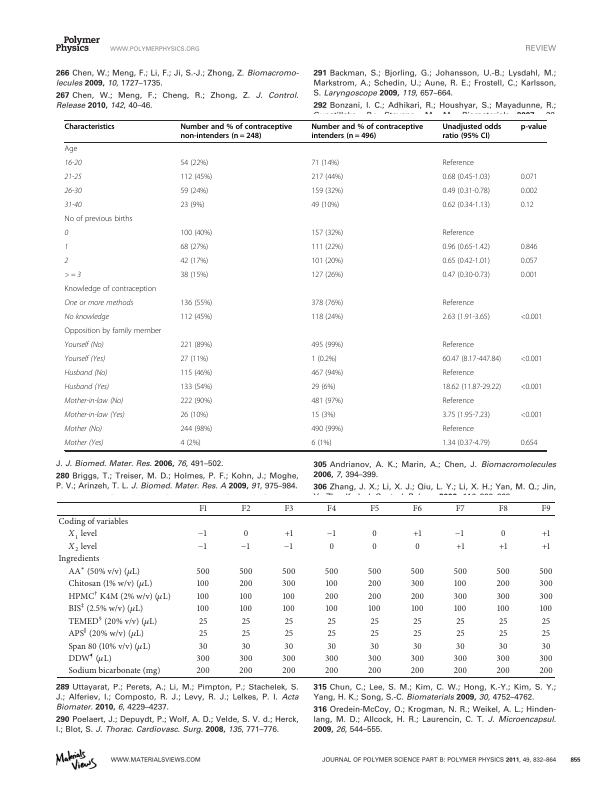borderless: (63, 119, 546, 450), (55, 500, 555, 677)
cell: (179, 123, 293, 141), (310, 123, 424, 141), (67, 587, 172, 604), (67, 613, 158, 629), (67, 576, 153, 591), (67, 638, 152, 653), (67, 625, 145, 641), (67, 600, 144, 616), (67, 563, 141, 579), (441, 123, 502, 141), (67, 666, 161, 677), (64, 327, 162, 337), (64, 285, 157, 295), (67, 650, 113, 666), (57, 517, 129, 527), (64, 215, 133, 225), (64, 299, 134, 308), (441, 355, 502, 365), (441, 383, 502, 393), (64, 411, 126, 420), (64, 397, 124, 406), (67, 538, 98, 555), (441, 173, 491, 183), (441, 187, 491, 197), (441, 201, 491, 211), (441, 243, 491, 253), (441, 257, 491, 267), (441, 271, 491, 281), (441, 313, 491, 323), (441, 411, 491, 421), (441, 439, 491, 449), (67, 526, 98, 542), (57, 554, 100, 565), (64, 123, 116, 132), (64, 313, 110, 323), (64, 383, 110, 392), (64, 369, 108, 378), (64, 355, 106, 364), (64, 341, 105, 350), (64, 439, 104, 448), (64, 425, 103, 434), (441, 159, 475, 169), (179, 173, 213, 183), (310, 173, 344, 183), (310, 187, 344, 197), (179, 229, 213, 239), (310, 229, 344, 239), (441, 229, 475, 239), (310, 243, 344, 253), (310, 257, 344, 267), (310, 271, 344, 281), (179, 299, 213, 309), (310, 299, 344, 309), (441, 299, 475, 309), (179, 313, 213, 323), (310, 313, 344, 323), (179, 341, 213, 351), (310, 341, 344, 351), (441, 341, 475, 351), (179, 369, 213, 379), (310, 369, 344, 379), (441, 369, 475, 379), (179, 383, 213, 393), (179, 397, 213, 407), (310, 397, 344, 407), (441, 397, 475, 407), (179, 425, 213, 435), (310, 425, 344, 435), (441, 425, 475, 435), (179, 159, 209, 169), (310, 159, 340, 169), (179, 187, 209, 197), (310, 201, 340, 211), (179, 243, 209, 253), (179, 257, 209, 267), (179, 271, 209, 281), (179, 355, 209, 365), (179, 411, 209, 421), (310, 355, 338, 365), (179, 201, 205, 211), (310, 383, 336, 393), (310, 411, 336, 421), (520, 123, 547, 132), (520, 313, 543, 323), (520, 355, 543, 365), (520, 383, 543, 393), (520, 411, 543, 421), (179, 439, 201, 449), (310, 439, 332, 449), (197, 538, 209, 554), (240, 538, 252, 554), (283, 538, 295, 554), (197, 526, 209, 541), (326, 526, 338, 541), (520, 173, 538, 183), (520, 187, 538, 197), (520, 243, 538, 253), (520, 257, 538, 267), (520, 271, 538, 281), (520, 439, 538, 449), (238, 579, 254, 590), (238, 666, 254, 677), (455, 526, 466, 541), (281, 579, 296, 590), (367, 579, 382, 590), (410, 579, 425, 590), (496, 579, 511, 590), (539, 579, 554, 590), (324, 591, 339, 602), (367, 591, 382, 602), (410, 591, 425, 602), (453, 591, 468, 602), (496, 591, 511, 602), (539, 591, 554, 602), (196, 666, 211, 677), (281, 666, 296, 677), (324, 666, 339, 677), (367, 666, 382, 677), (410, 666, 425, 677), (453, 666, 468, 677), (496, 666, 511, 677), (539, 666, 554, 677), (64, 159, 82, 168), (64, 173, 82, 182), (64, 187, 82, 196), (64, 201, 82, 210), (64, 271, 82, 280), (238, 567, 254, 577), (238, 654, 254, 664), (196, 579, 210, 590), (325, 579, 339, 590), (453, 579, 467, 590), (196, 591, 210, 602), (239, 591, 253, 602), (282, 591, 296, 602), (196, 604, 210, 615), (239, 604, 253, 615), (282, 604, 296, 615), (325, 604, 339, 615), (368, 604, 382, 615), (410, 604, 424, 615), (453, 604, 467, 615), (496, 604, 510, 615), (539, 604, 553, 615), (196, 567, 211, 577), (281, 567, 296, 577), (324, 567, 339, 577), (367, 567, 382, 577), (410, 567, 425, 577), (453, 567, 468, 577), (496, 567, 511, 577), (539, 567, 554, 577), (196, 654, 211, 664), (281, 654, 296, 664), (324, 654, 339, 664), (367, 654, 382, 664), (410, 654, 425, 664), (453, 654, 468, 664), (496, 654, 511, 664), (539, 654, 554, 664), (520, 201, 535, 211), (64, 145, 78, 155), (283, 504, 294, 515), (326, 504, 337, 515), (369, 504, 380, 515), (412, 504, 423, 515), (455, 504, 466, 515), (498, 504, 509, 515), (541, 504, 552, 515), (412, 529, 423, 540), (369, 616, 380, 627), (412, 616, 423, 627), (455, 616, 466, 627), (326, 641, 337, 652), (369, 641, 380, 652), (412, 641, 423, 652), (455, 641, 466, 652), (198, 504, 208, 515), (241, 504, 251, 515), (284, 529, 294, 540), (541, 529, 551, 540), (198, 616, 208, 627), (241, 616, 251, 627), (284, 616, 294, 627), (327, 616, 337, 627), (498, 616, 508, 627), (541, 616, 551, 627), (369, 629, 380, 639), (412, 629, 423, 639), (455, 629, 466, 639), (198, 641, 208, 652), (241, 641, 251, 652), (284, 641, 294, 652), (498, 641, 508, 652), (541, 641, 551, 652), (455, 542, 465, 552), (498, 542, 508, 552), (541, 542, 551, 552), (198, 629, 208, 639), (241, 629, 251, 639), (284, 629, 294, 639), (327, 629, 337, 639), (498, 629, 508, 639), (541, 629, 551, 639), (371, 529, 378, 540), (371, 542, 378, 552), (414, 542, 421, 552), (243, 529, 249, 540), (500, 529, 506, 540), (329, 542, 335, 552), (64, 229, 69, 238), (64, 243, 69, 252), (64, 257, 69, 266)
